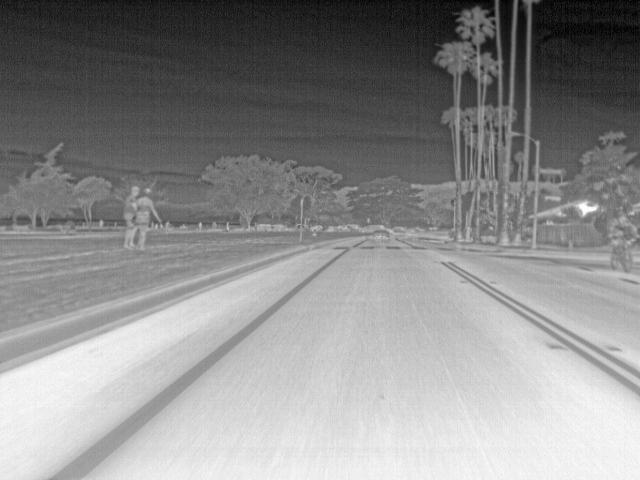car: (371, 229, 391, 240)
person: (136, 185, 163, 252), (608, 211, 639, 247), (125, 186, 140, 248)
